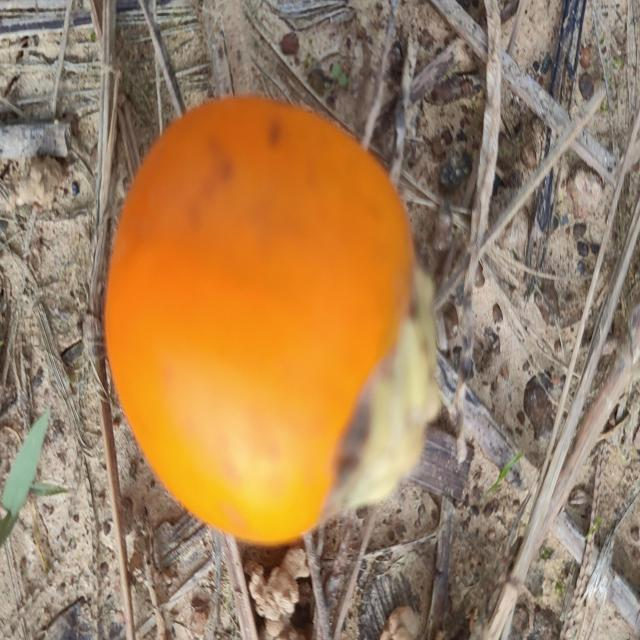good: (100, 94, 436, 550)
